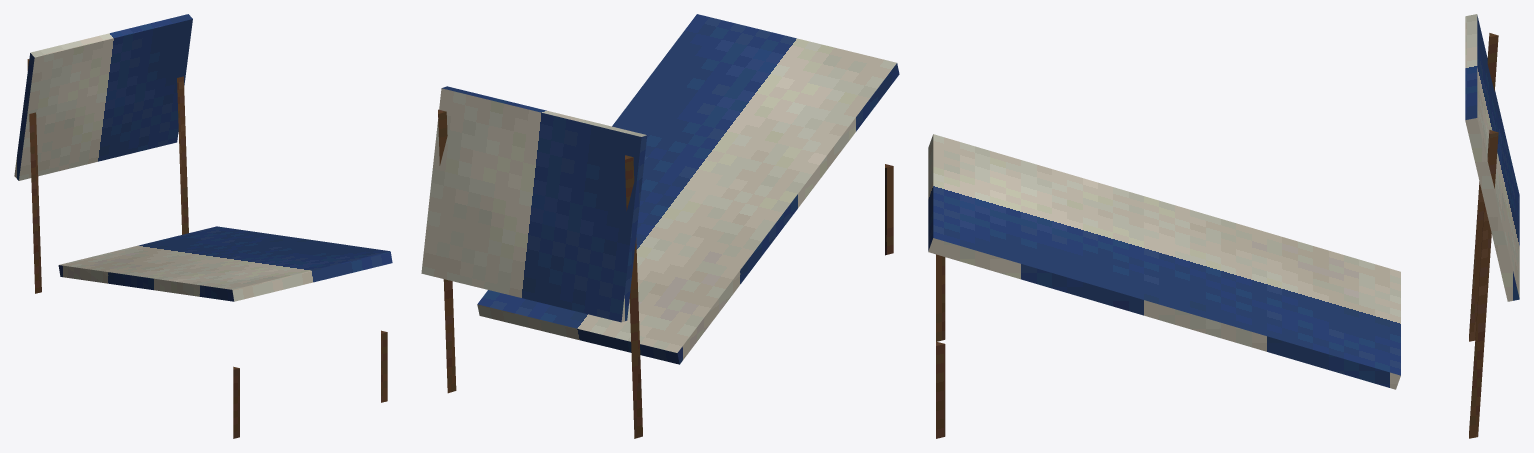
File: hamaca.obj
The picture shows the model from 3 angles, left to right: view 1: azimuth 30°, elevation 25°; view 2: azimuth 150°, elevation 25°; view 3: azimuth 270°, elevation 25°; orthographic projection. The views are drawn at different scales.
Parts seen in each view (by area): view 1: hamaca; view 2: hamaca; view 3: hamaca.
Part boxes in pixels (x1=…): hamaca: x1=14, y1=14, x2=392, y2=438; hamaca: x1=421, y1=14, x2=899, y2=438; hamaca: x1=928, y1=14, x2=1519, y2=438.
Bounding box in the file's own units: 0.6 × 0.8686 × 1.44.
Materials: 2 (2 with a texture image).
